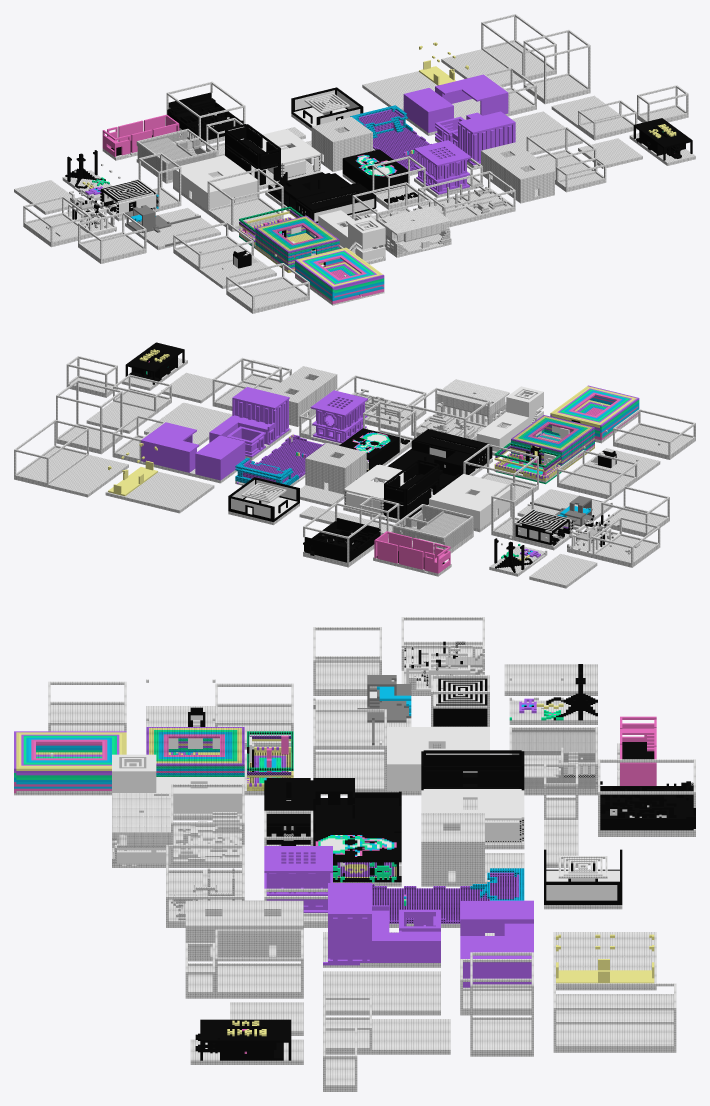
The model's file is Punks-v2.glb.
The picture shows the model from 3 angles, top to bottom: view 1: azimuth 30°, elevation 25°; view 2: azimuth 150°, elevation 25°; view 3: azimuth 270°, elevation 25°; orthographic projection. The views are drawn at different scales.
Visible parts, largest first — view 1: solid-voxels_11.021; view 2: solid-voxels_11.021; view 3: solid-voxels_11.021.
Part boxes in pixels (bbox=[...]): solid-voxels_11.021: bbox=[14, 14, 695, 313]; solid-voxels_11.021: bbox=[14, 342, 695, 588]; solid-voxels_11.021: bbox=[14, 617, 695, 1091].
Bounding box in the file's own units: 214 × 16 × 139.
Materials: 1 (1 with a texture image).
